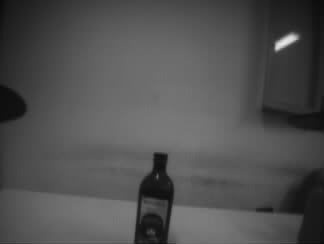Bottle: (134, 151, 175, 244)
